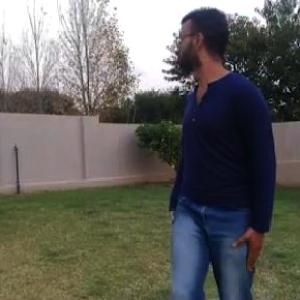follow: (164, 1, 282, 299)
